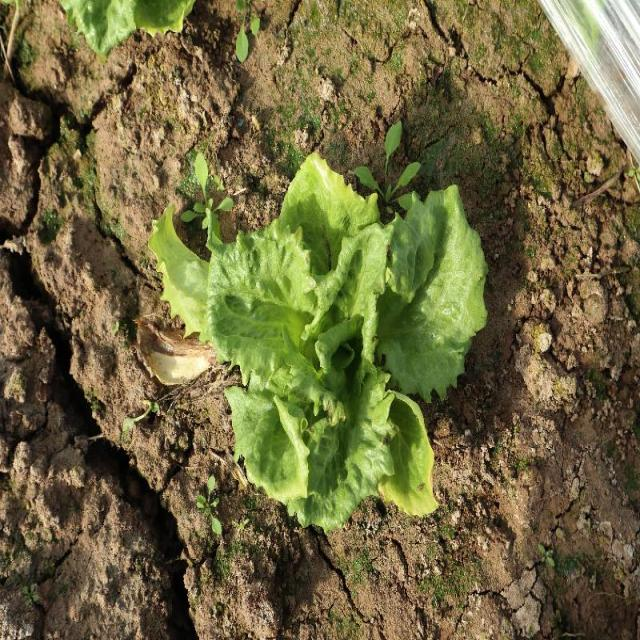crop: (211, 154, 487, 522)
